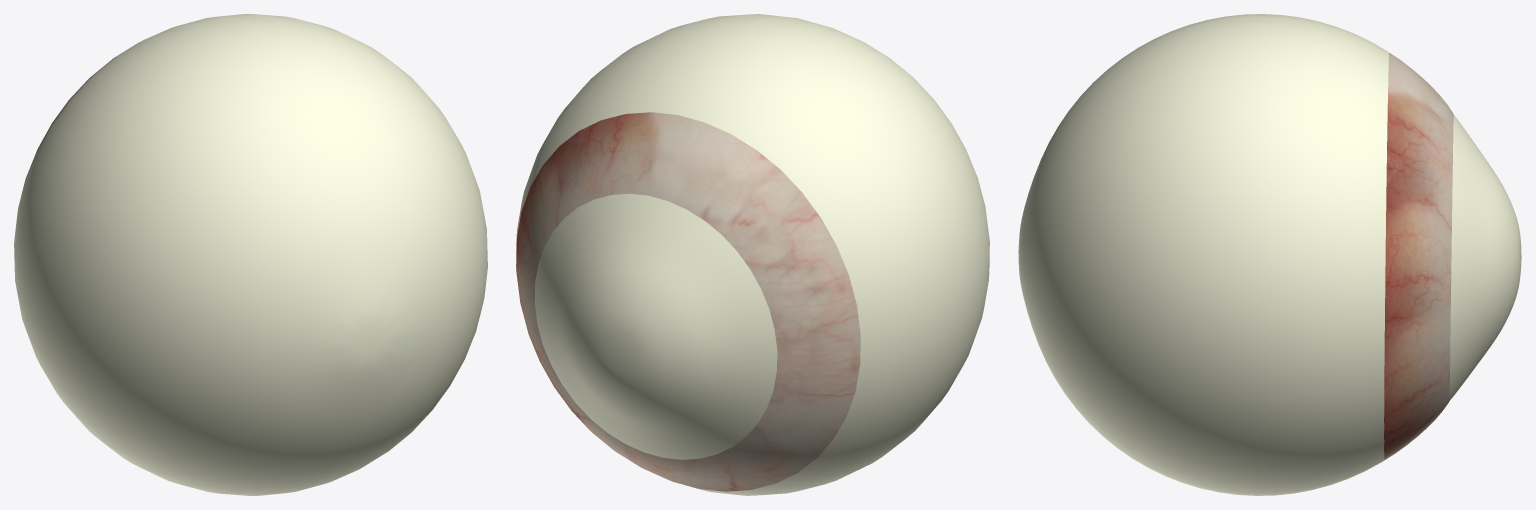
Rendered from eye.glb.
3 views of the same model, side by side, from view 1: azimuth 30°, elevation 25°; view 2: azimuth 150°, elevation 25°; view 3: azimuth 270°, elevation 25° (orthographic).
Parts seen in each view (by area): view 1: Eye_1_R; view 2: Eye_1_R; view 3: Eye_1_R.
Part boxes in pixels (bbox=[...]): Eye_1_R: bbox=[14, 14, 487, 495]; Eye_1_R: bbox=[516, 14, 989, 495]; Eye_1_R: bbox=[1018, 14, 1521, 495].
Bounding box in the file's own units: 0.00392 × 0.004 × 0.00416.
Materials: 2 (1 with a texture image).
